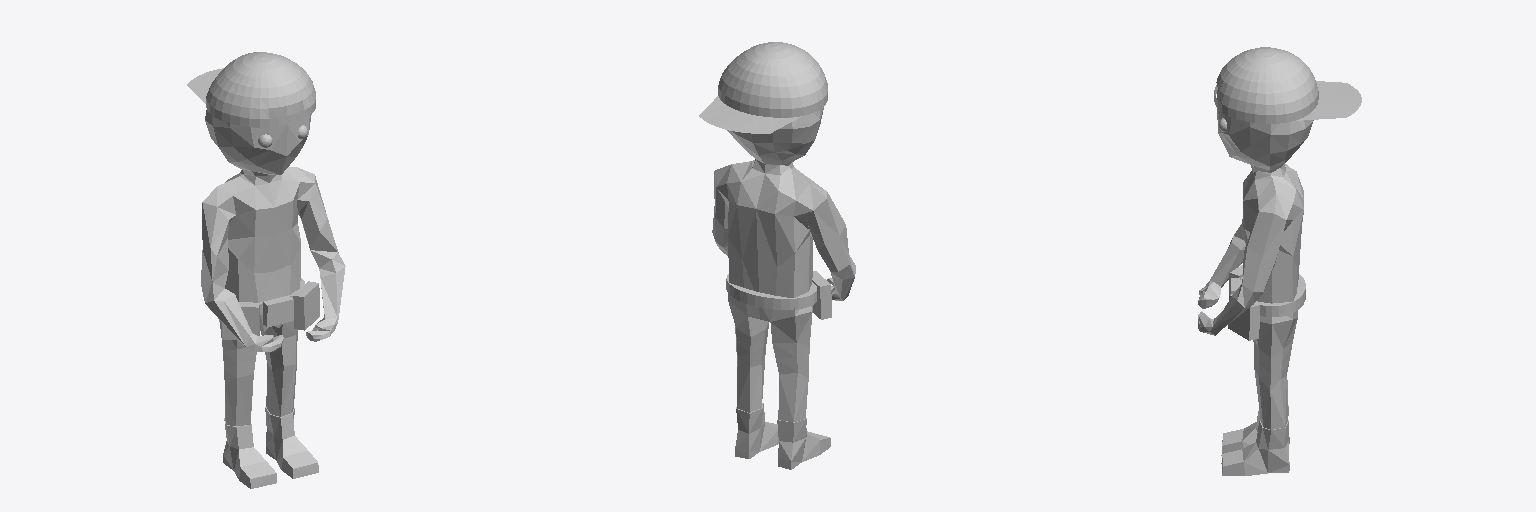
File: Main_Character_TireRepair_1.obj
3 renders of one model, left to right at view 1: azimuth 30°, elevation 25°; view 2: azimuth 150°, elevation 25°; view 3: azimuth 270°, elevation 25°, orthographic.
Visible parts, largest first — view 1: Main_Character_Test.003_Main_Character_Test.004; view 2: Main_Character_Test.003_Main_Character_Test.004; view 3: Main_Character_Test.003_Main_Character_Test.004.
Boxes of the visible parts, <box> form: Main_Character_Test.003_Main_Character_Test.004: <box>187,52,345,488</box>; Main_Character_Test.003_Main_Character_Test.004: <box>699,42,855,469</box>; Main_Character_Test.003_Main_Character_Test.004: <box>1198,47,1361,475</box>.
Size of the model in its own units: 1.41 by 3.98 by 1.45.